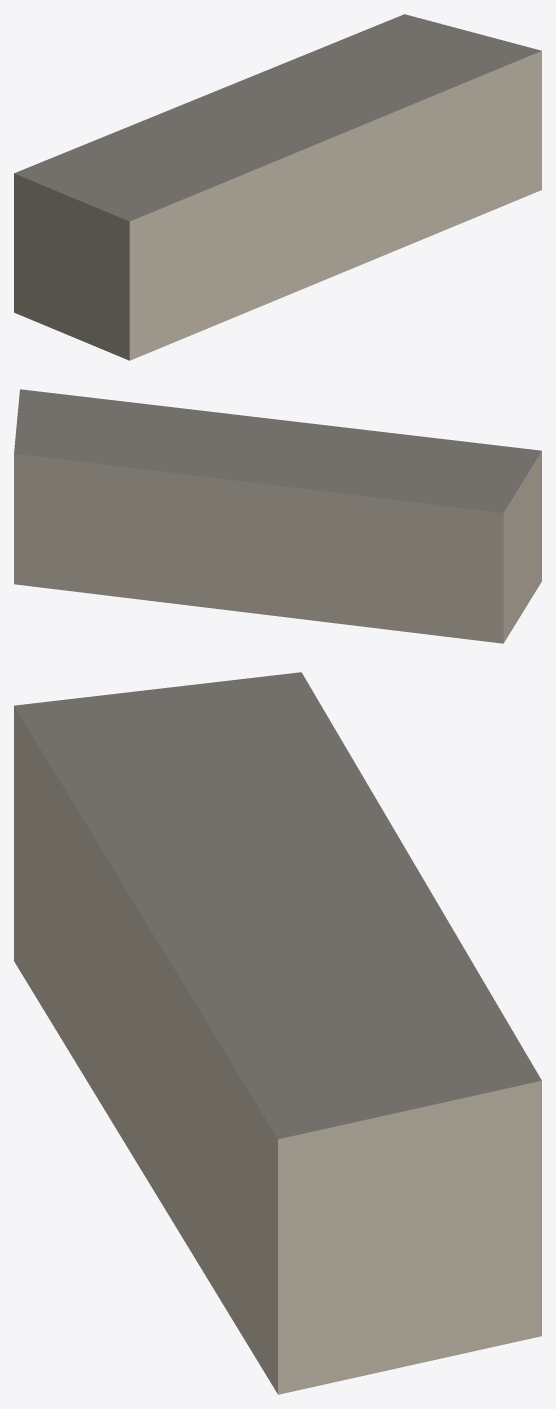
3 renders of one model, top to bottom at view 1: azimuth 30°, elevation 25°; view 2: azimuth 150°, elevation 25°; view 3: azimuth 270°, elevation 25°, orthographic. The views are drawn at different scales.
Parts seen in each view (by area): view 1: HP-w756799590; view 2: HP-w756799590; view 3: HP-w756799590.
Part boxes in pixels (x1,y1,x2,y2): HP-w756799590: [14, 14, 541, 360]; HP-w756799590: [14, 389, 541, 643]; HP-w756799590: [14, 672, 541, 1394].
Size of the model in its own units: 47.05 by 12 by 22.47.
